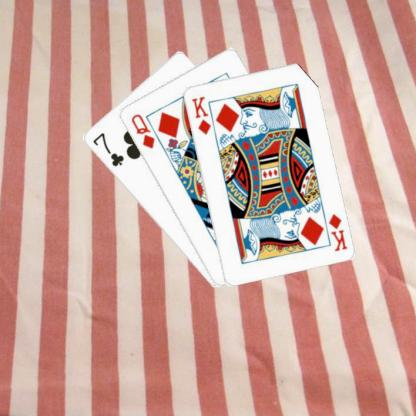7C: (89, 130, 125, 168)
KD: (189, 94, 212, 136), (326, 211, 348, 252)
QD: (128, 111, 156, 150)
